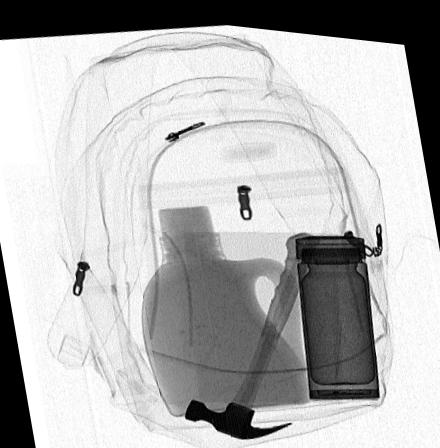Hammer: (183, 224, 320, 434)
